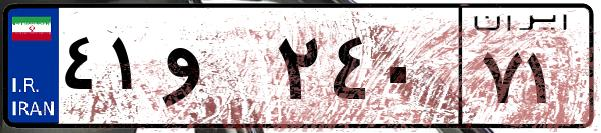0: (385, 28, 445, 110)
1: (525, 38, 570, 115), (110, 28, 158, 98)
2: (270, 28, 330, 110)
4: (330, 28, 385, 110), (57, 26, 110, 100)
7: (475, 38, 525, 113)
و: (158, 20, 270, 120)
